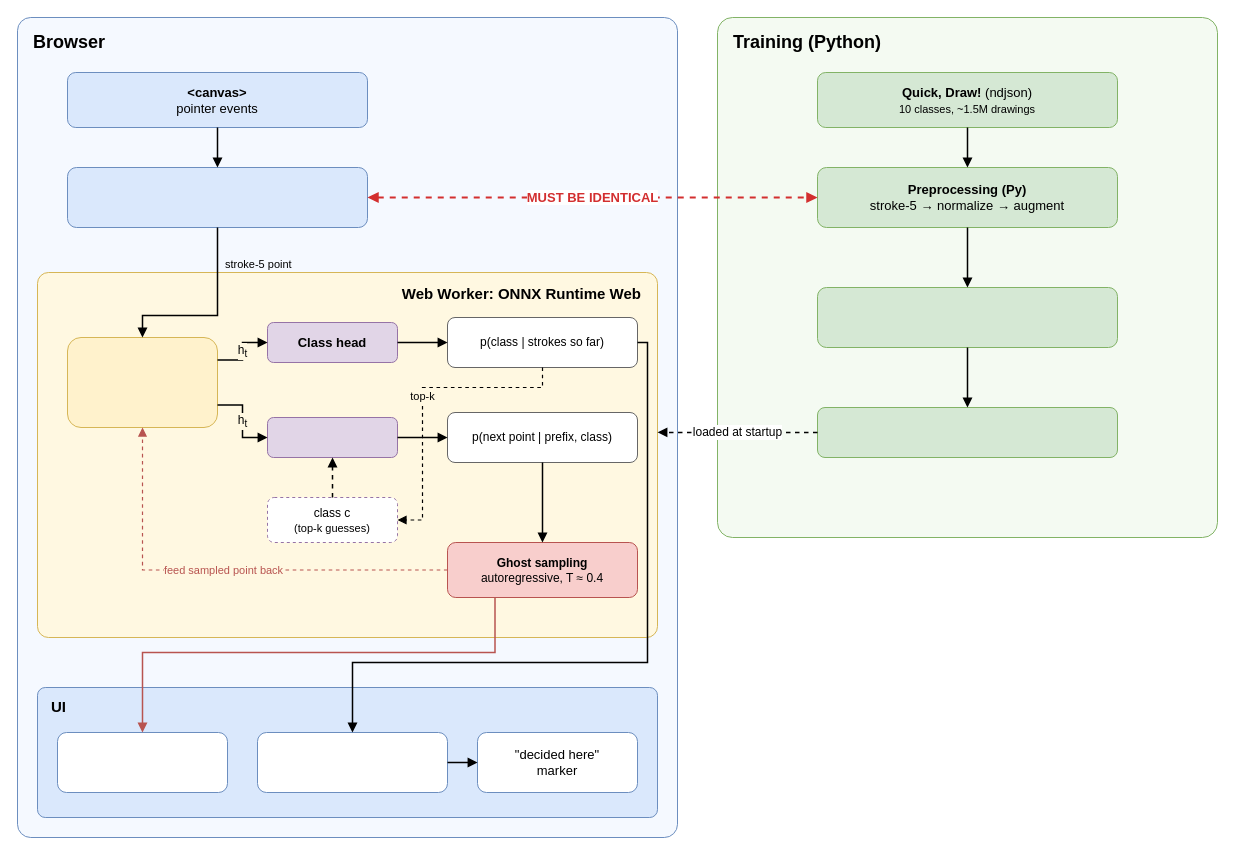
Image size: 1235x855. Some labels were removed from this diagram. The centre of each missing label's shape, as x and y in pixels:
"belief chart p(class) + entropy per stroke" belongs at (352,762).
"canvas + ghost strokes" belongs at (142,762).
"Encoder causal LSTM hidden state h t" belongs at (142,382).
"export → model.onnx" belongs at (967,432).
"MDN head" belongs at (332,437).
"Preprocessing (TS) RDP simplify → stroke-5 → normalize" belongs at (217,197).
"PyTorch model class CE (every step) + MDN NLL + pen CE" belongs at (967,317).
